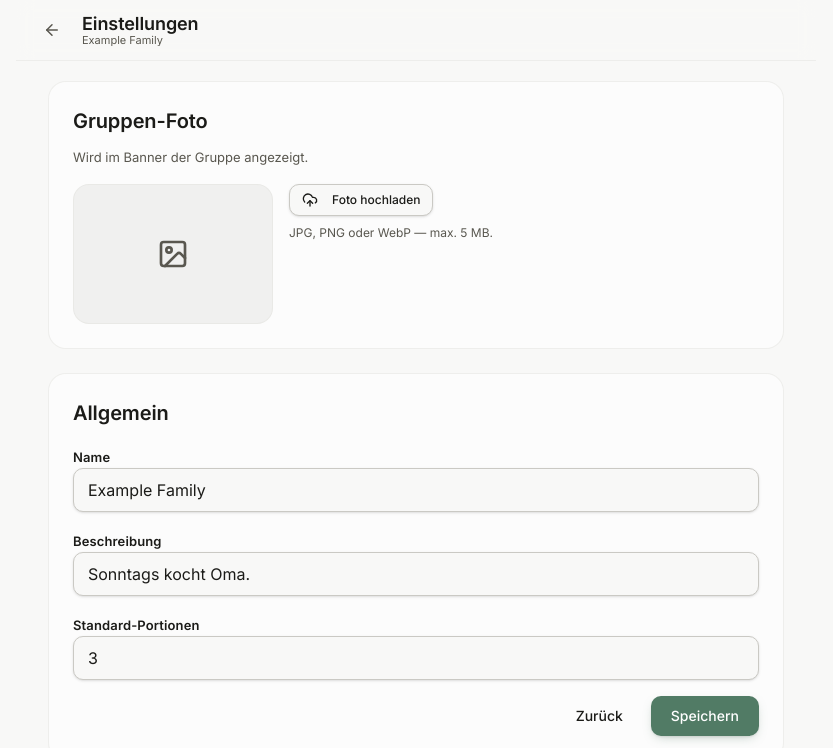
Test: <GroupSettingsPage /> › saves name + description + default-servings via PUT /api/groups/{id}
Replace the text in the field labelled "Name" with "Familie K." at (416, 490), box [73, 468, 759, 512]
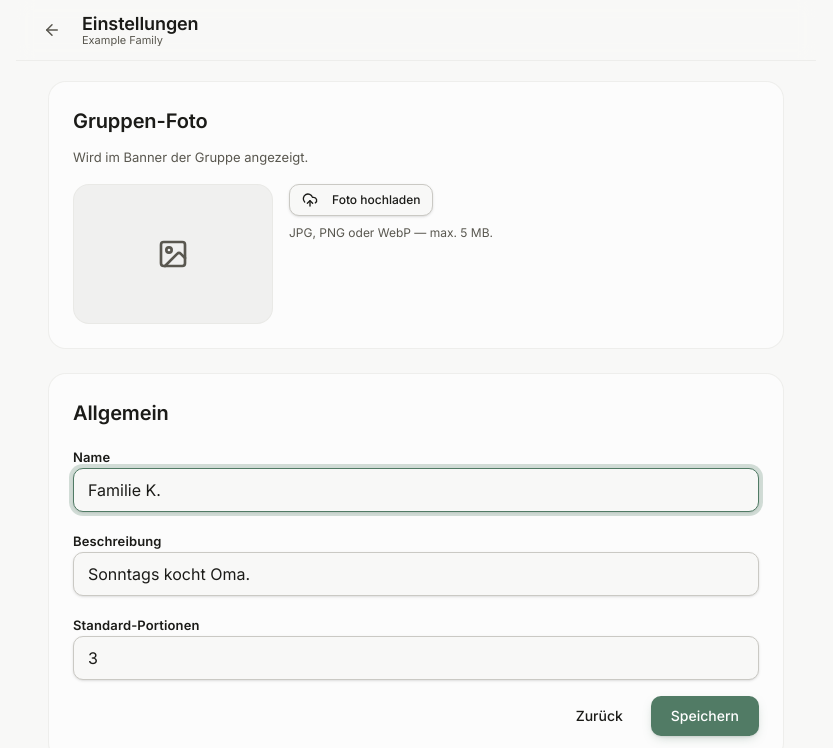
Replace the text in the number field labelled "Standard-Portionen" with "4" at (416, 658), box [73, 636, 759, 680]
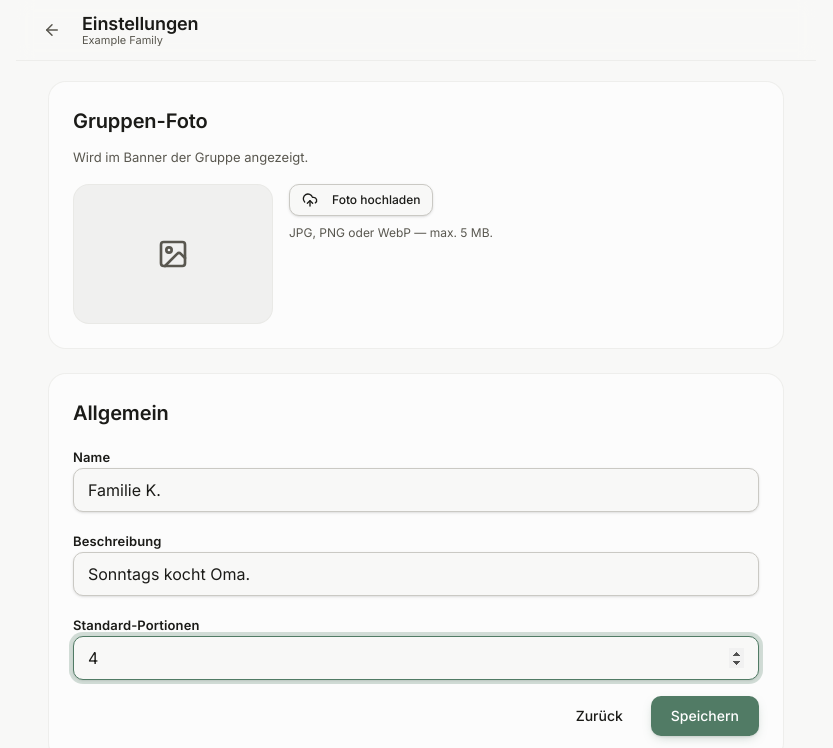
Click the button "Speichern" at (705, 716), box [651, 696, 759, 736]
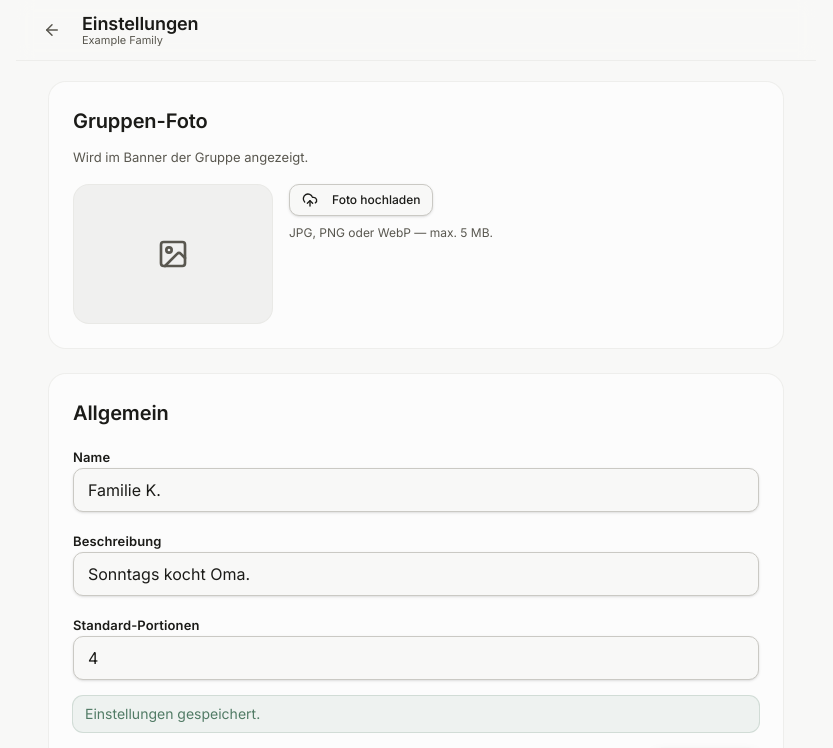
Expected: the text "Einstellungen gespeichert." is shown, [73, 696, 759, 732]
